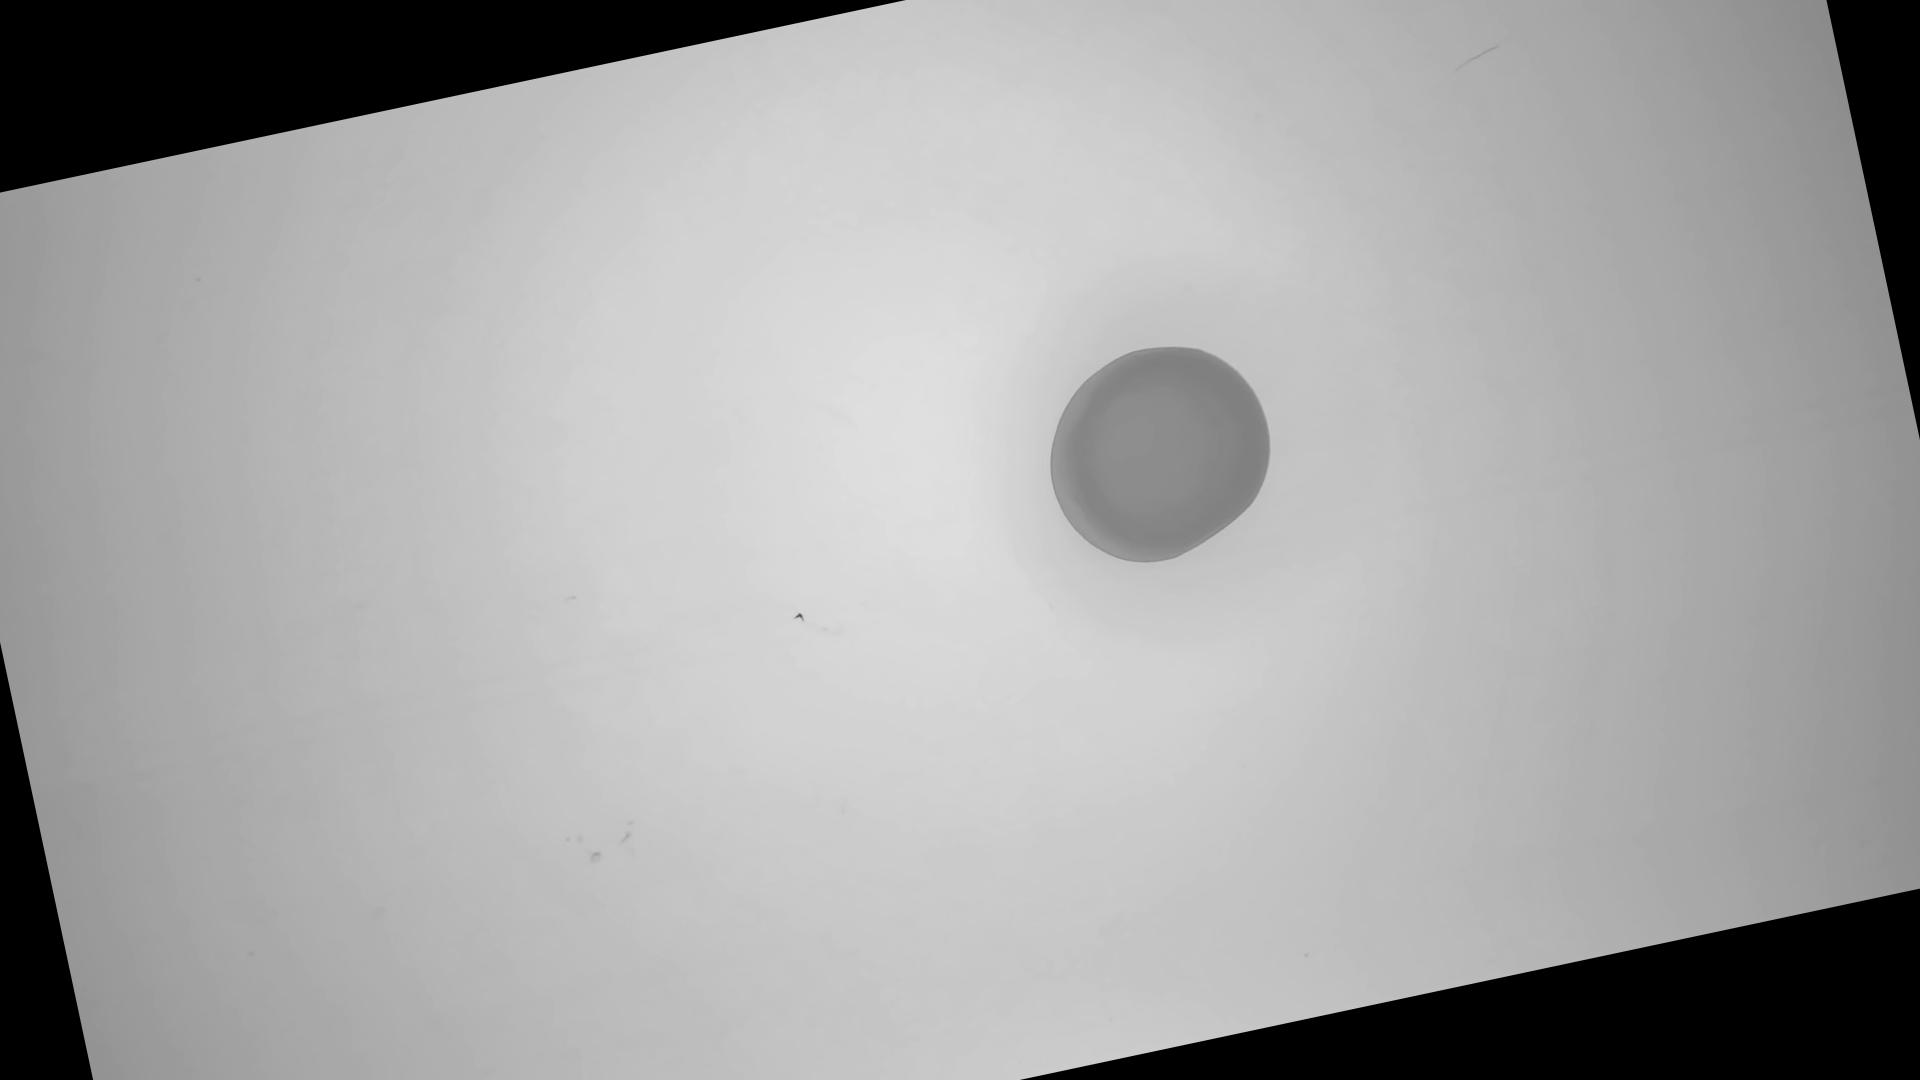normal: (1029, 323, 1295, 584)
